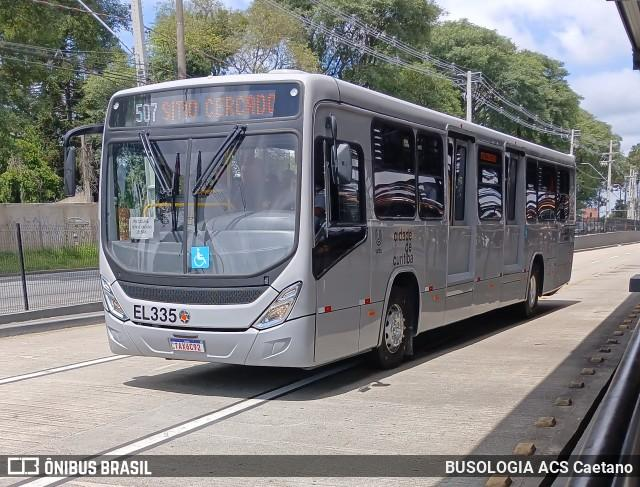SITIO CERCADO: (159, 87, 280, 128)
